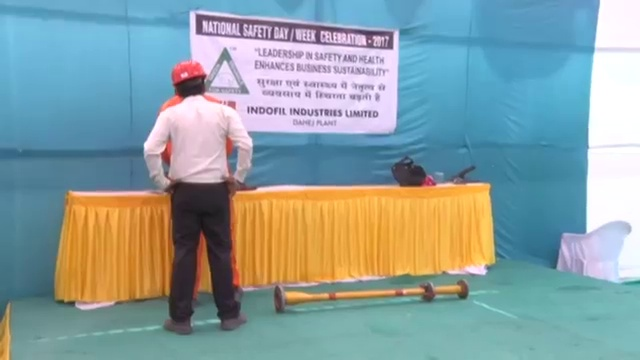helmet: (168, 59, 206, 85)
helmet_on: (168, 58, 207, 97)
person: (143, 60, 253, 336)
